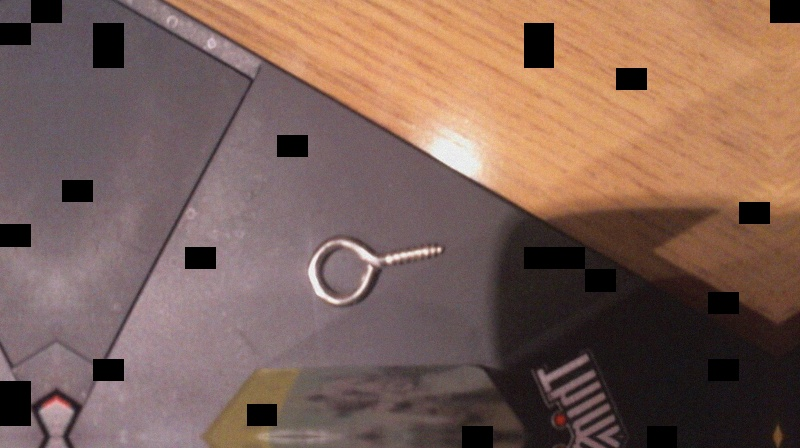O001: (302, 233, 443, 308)
